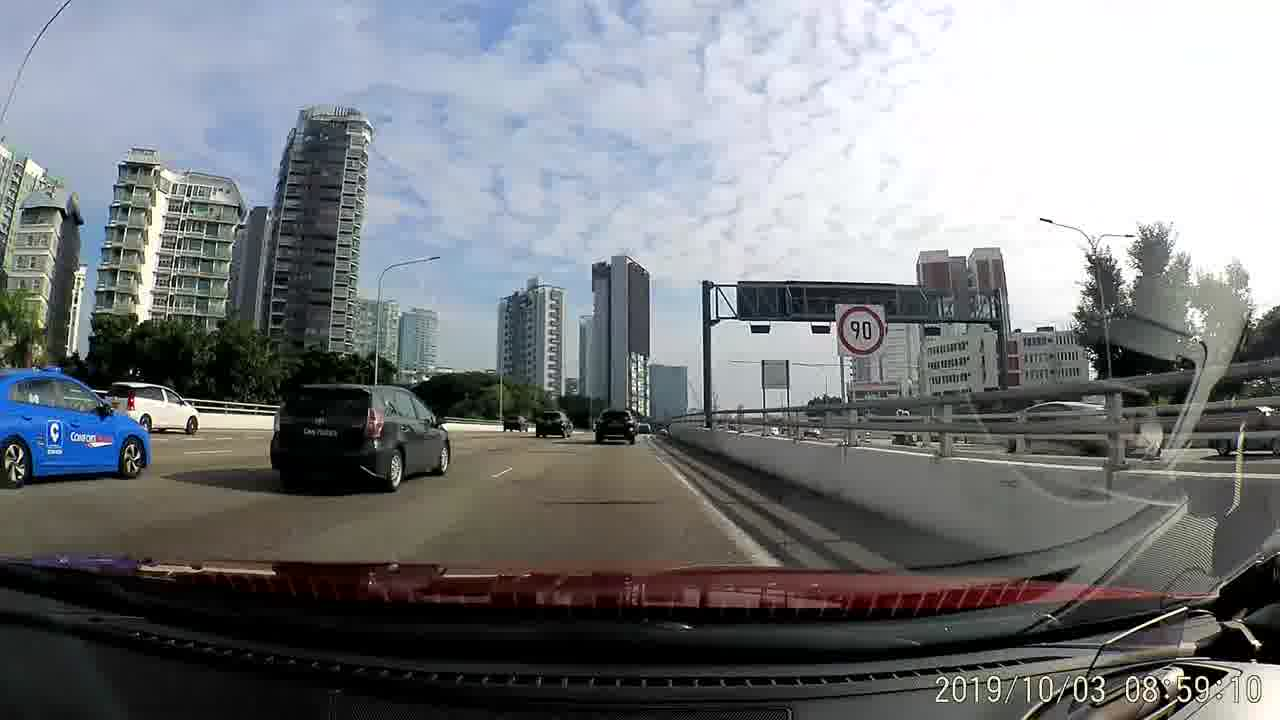car: (267, 378, 451, 495), (3, 364, 152, 490), (101, 380, 200, 438), (595, 406, 642, 447), (536, 409, 575, 442), (503, 411, 529, 431)
